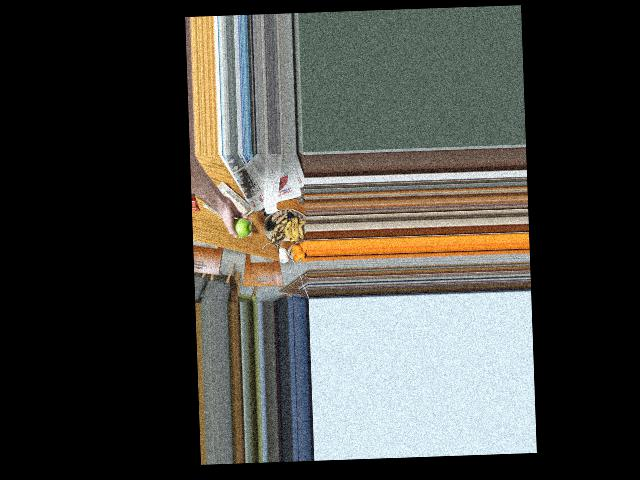apple: (228, 215, 252, 241)
